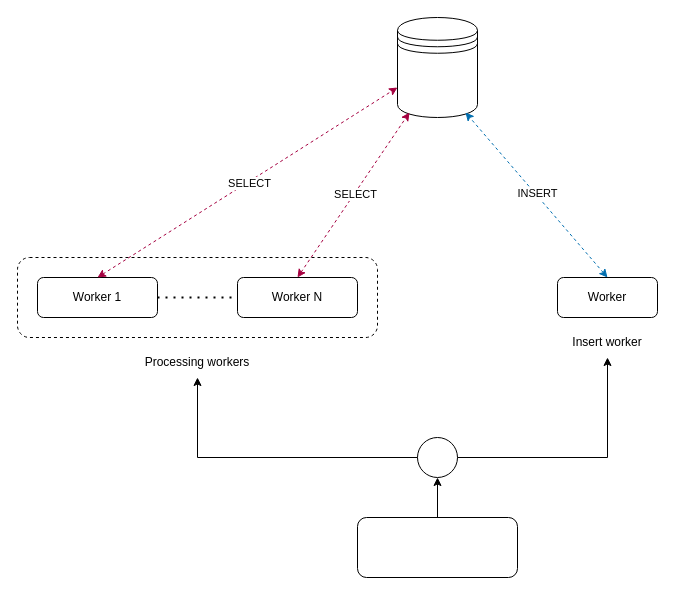
This 680x595 diagram has some shape labels left out. The box of each missing label's shape, as (x1, y1, x2, y2) in pixels:
Database: (396, 16, 478, 118)
Main program: (356, 516, 518, 578)
